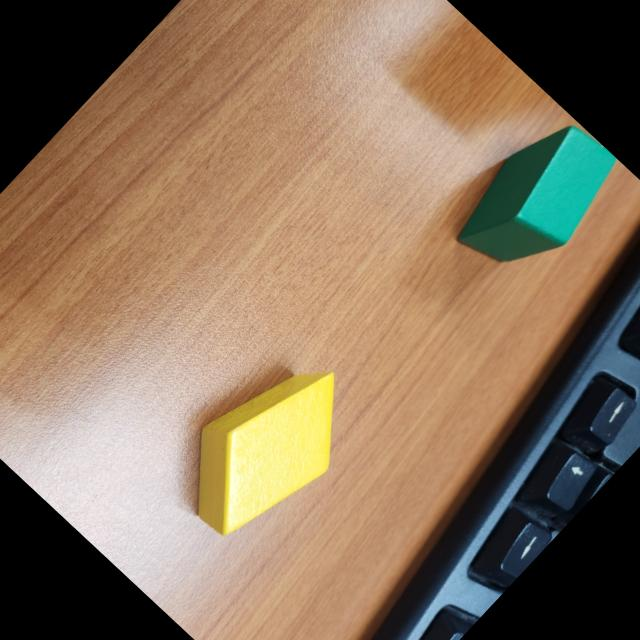green: (457, 126, 616, 264)
yellow: (197, 374, 333, 536)
